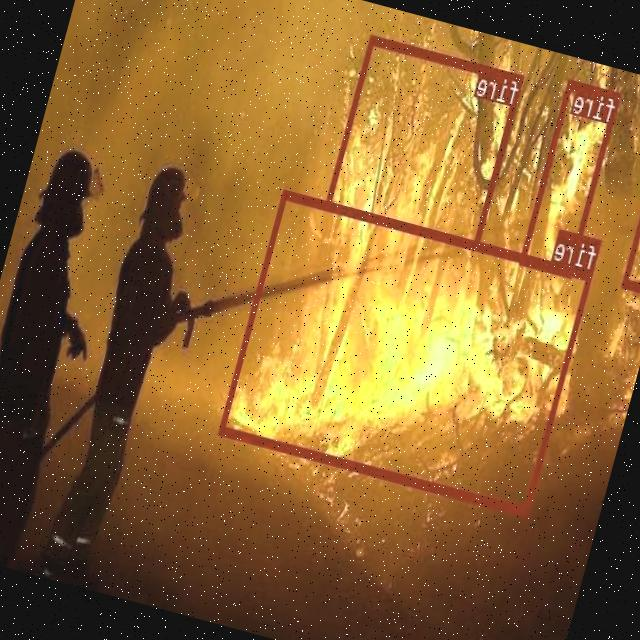fire: (219, 190, 593, 514), (326, 33, 524, 249), (520, 77, 622, 276), (622, 87, 640, 295)
